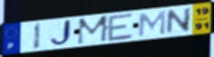E: (107, 12, 135, 43)
I: (33, 22, 43, 50)
J: (49, 18, 74, 48)
M: (76, 14, 111, 46), (137, 10, 167, 38)
N: (165, 6, 194, 36)
